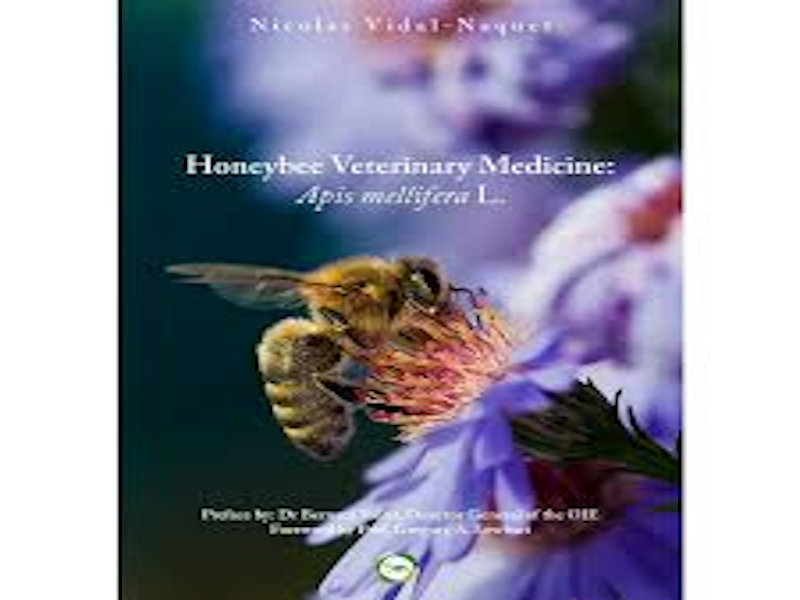abeja: (141, 228, 485, 474)
